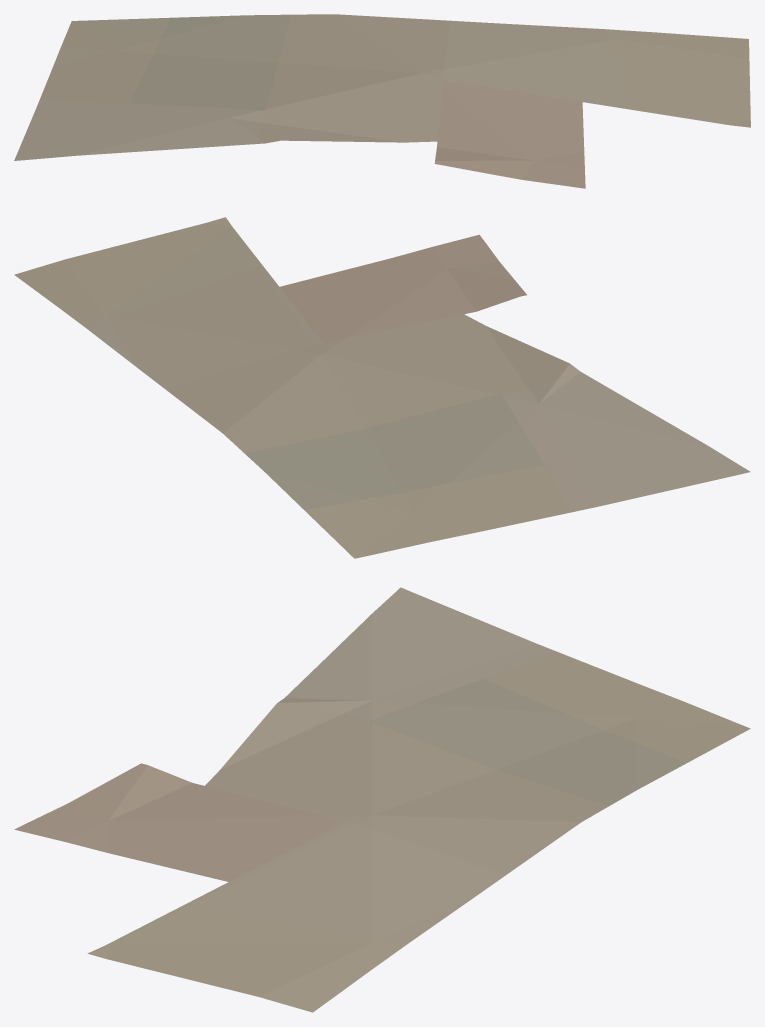
Rendered from farm_-3_15_soil.glb.
The picture shows the model from 3 angles, top to bottom: view 1: azimuth 30°, elevation 25°; view 2: azimuth 150°, elevation 25°; view 3: azimuth 270°, elevation 25°; orthographic projection. The views are drawn at different scales.
Parts seen in each view (by area): view 1: geometry_0; view 2: geometry_0; view 3: geometry_0.
Boxes of the visible parts, bbox=[...] form: geometry_0: bbox=[14, 14, 750, 188]; geometry_0: bbox=[14, 217, 750, 558]; geometry_0: bbox=[14, 587, 750, 1012].
Bounding box in the file's own units: 287 × 10.69 × 223.
